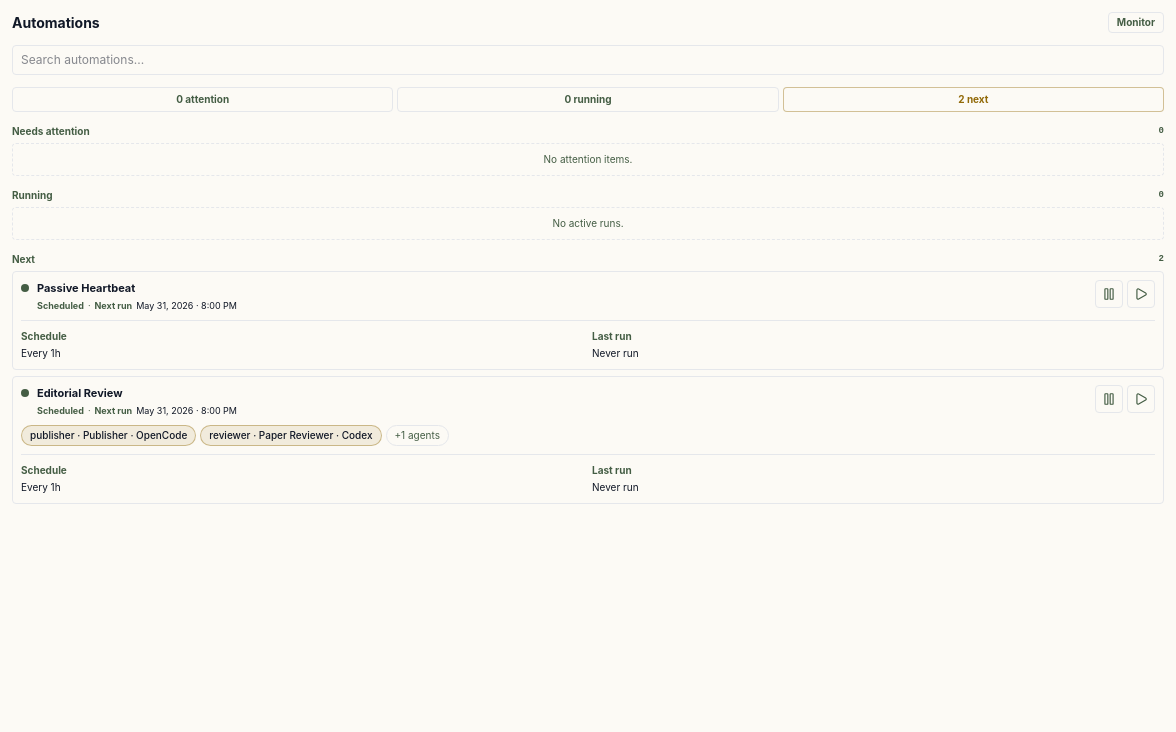
it: AutomationMonitorGlance › finds an owning automation by its resolved agent label
The image size is (1176, 732).
In the search field with placeholder "Search automations...": (588, 60) [12,45,1164,75], type "Paper Reviewer · Codex"
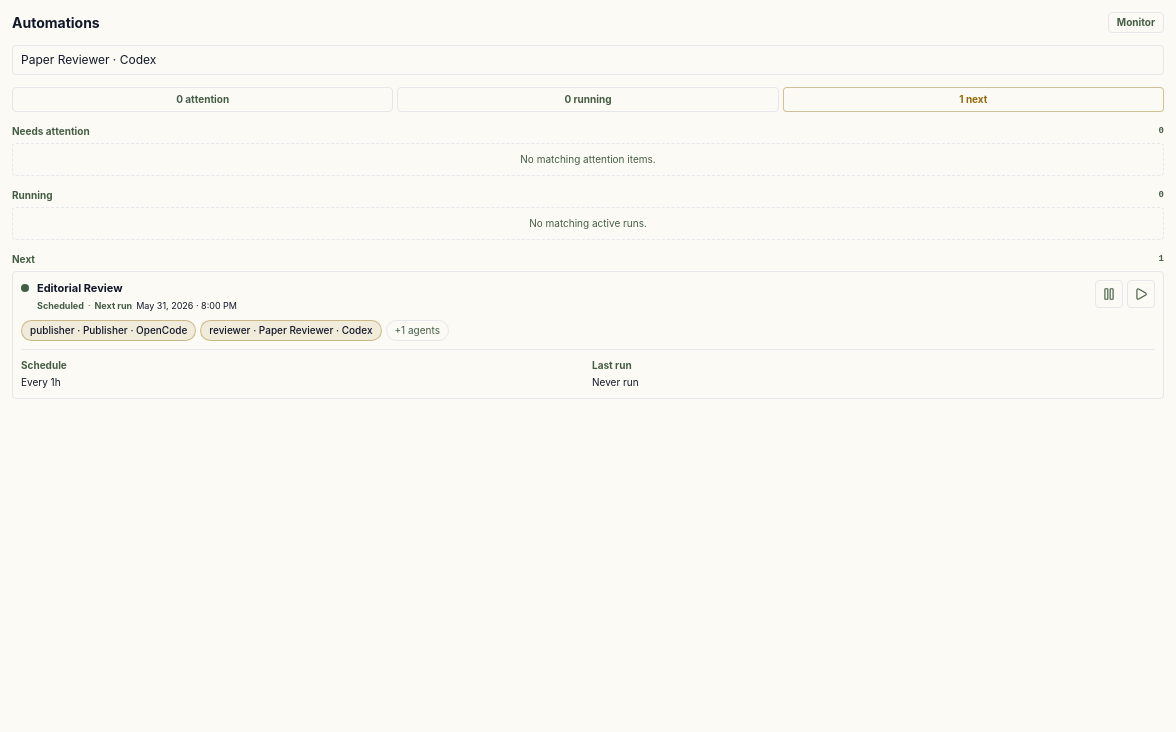
Expected: the heading "Editorial Review" is shown, [37,281,122,295]
Expected: the heading "Passive Heartbeat" is gone
